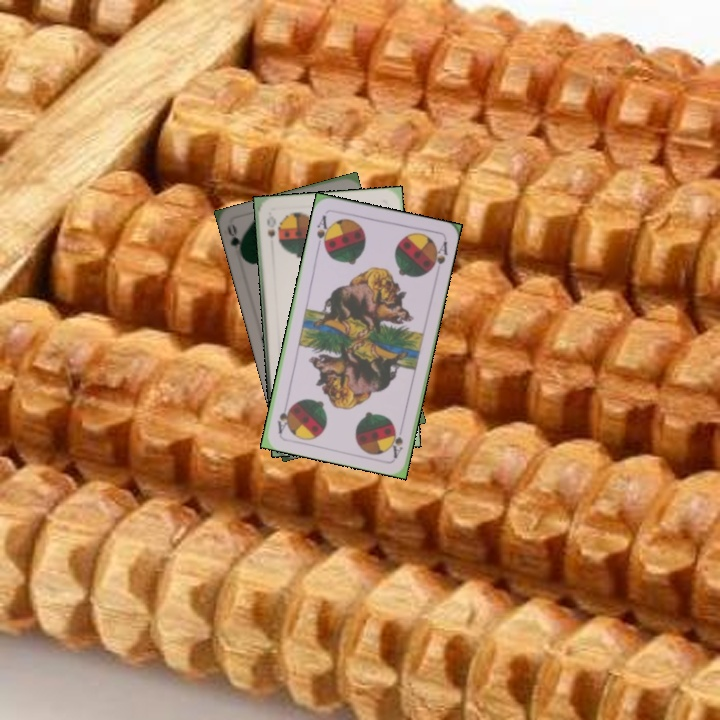GO: (223, 221, 248, 262)
SA: (313, 211, 333, 251), (388, 424, 406, 460)
SO: (263, 212, 278, 240)
